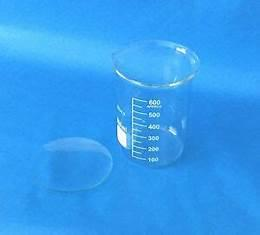Beaker: (108, 35, 202, 162)
